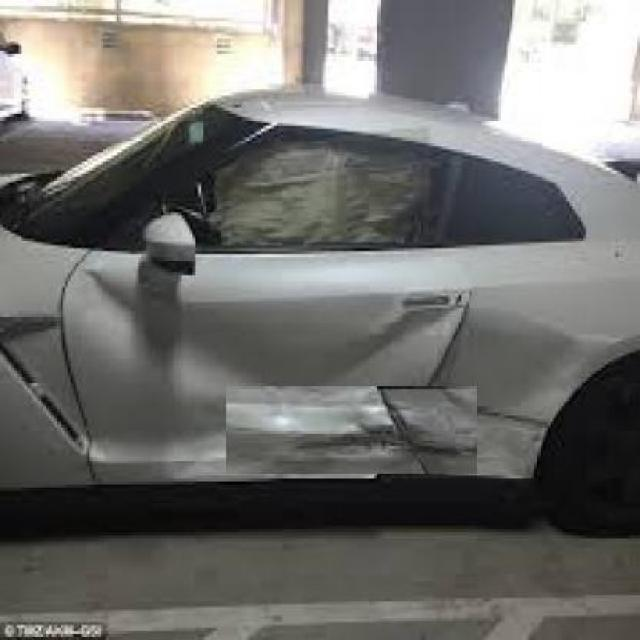dent: (175, 294, 454, 398)
